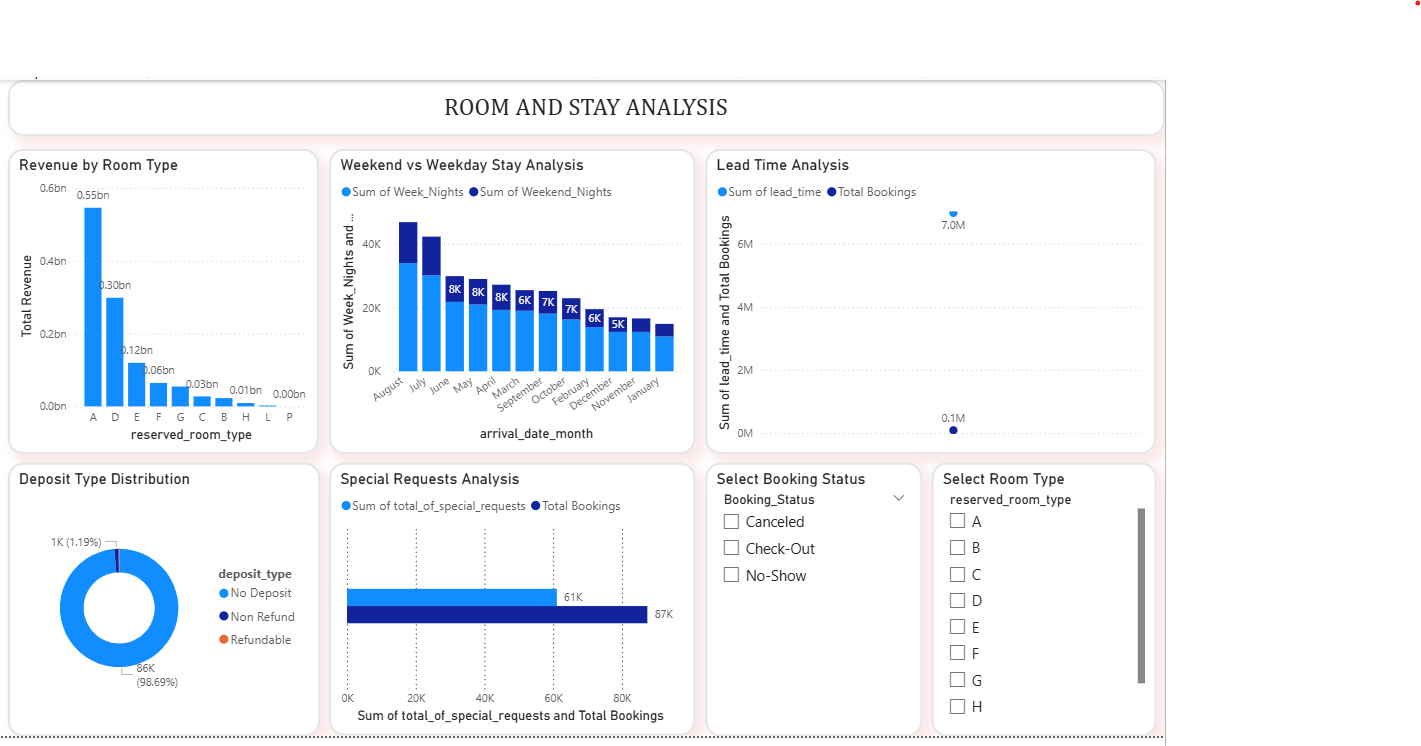

The page's visual inventory and layout, read from the dashboard file:
{"tool":"powerbi","page":{"name":"Room & Stay analysis","canvas":[1280,720],"ordinal":2},"visuals":[{"type":"textbox","box":[9.6,0,1270.7,61.7],"z":0},{"type":"clusteredColumnChart","title":"Revenue by Room Type","fields":{"Category":["hospitality_data.reserved_room_type"],"Y":["hospitality_data.Total Revenue"]},"box":[9.6,75.5,341.7,334.8],"z":1000},{"type":"columnChart","title":"Weekend vs Weekday Stay Analysis","fields":{"Category":["hospitality_data.arrival_date_month"],"Y":["Sum(hospitality_data.Week_Nights)","Sum(hospitality_data.Weekend_Nights)"]},"box":[362.3,75.5,402.1,334.8],"z":2000},{"type":"areaChart","title":"Lead Time Analysis","fields":{"Y":["Sum(hospitality_data.lead_time)","hospitality_data.Total Bookings"]},"box":[775.3,75.5,495.4,334.8],"z":3000},{"type":"donutChart","title":"Deposit Type Distribution","fields":{"Category":["hospitality_data.deposit_type"],"Y":["hospitality_data.Total Bookings"]},"box":[9.6,419.9,343.1,300.5],"z":4000},{"type":"clusteredBarChart","title":"Special Requests Analysis","fields":{"Y":["Sum(hospitality_data.total_of_special_requests)","hospitality_data.Total Bookings"]},"box":[362,420,402,300],"z":5000},{"type":"slicer","title":"Select Booking Status","fields":{"Values":["hospitality_data.Booking_Status"]},"box":[775.3,419.9,238.8,300.5],"z":6000},{"type":"slicer","title":"Select Room Type","fields":{"Values":["hospitality_data.reserved_room_type"]},"box":[1023.7,419.9,247,300.5],"z":7000}]}

Visuals, with their boxes on the page's 1280x720 design canvas (x1, y1, x2, y2). These are canvas units, not pixel positions in the 1421x746 screenshot, which may show the page scaled, cropped or inside an application window:
textbox: select_region(10, 0, 1280, 62)
"Revenue by Room Type" clusteredColumnChart: select_region(10, 76, 351, 410)
"Weekend vs Weekday Stay Analysis" columnChart: select_region(362, 76, 764, 410)
"Lead Time Analysis" areaChart: select_region(775, 76, 1271, 410)
"Deposit Type Distribution" donutChart: select_region(10, 420, 353, 720)
"Special Requests Analysis" clusteredBarChart: select_region(362, 420, 764, 720)
"Select Booking Status" slicer: select_region(775, 420, 1014, 720)
"Select Room Type" slicer: select_region(1024, 420, 1271, 720)
